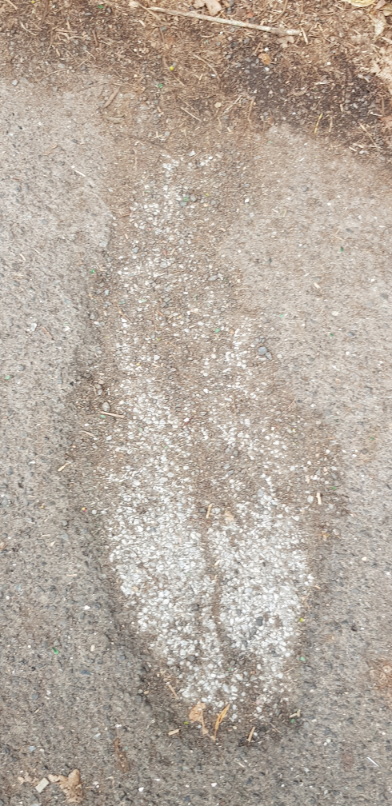pothole: (61, 132, 352, 762)
